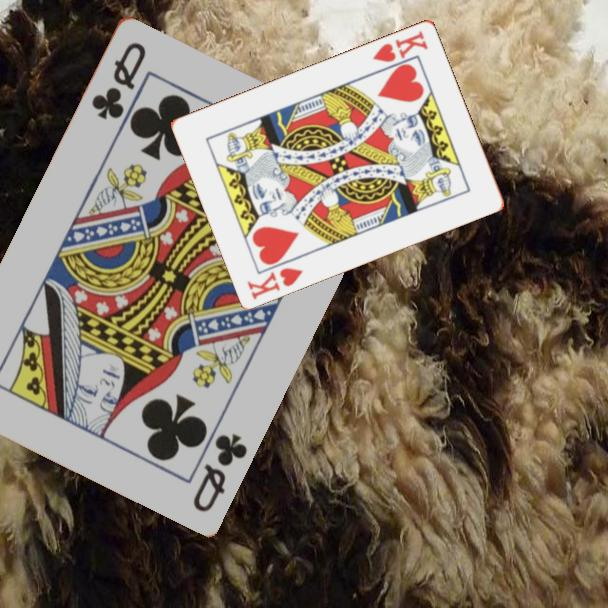c12: (87, 38, 149, 122), (189, 429, 250, 514)
h13: (369, 27, 431, 65), (244, 264, 306, 302)
